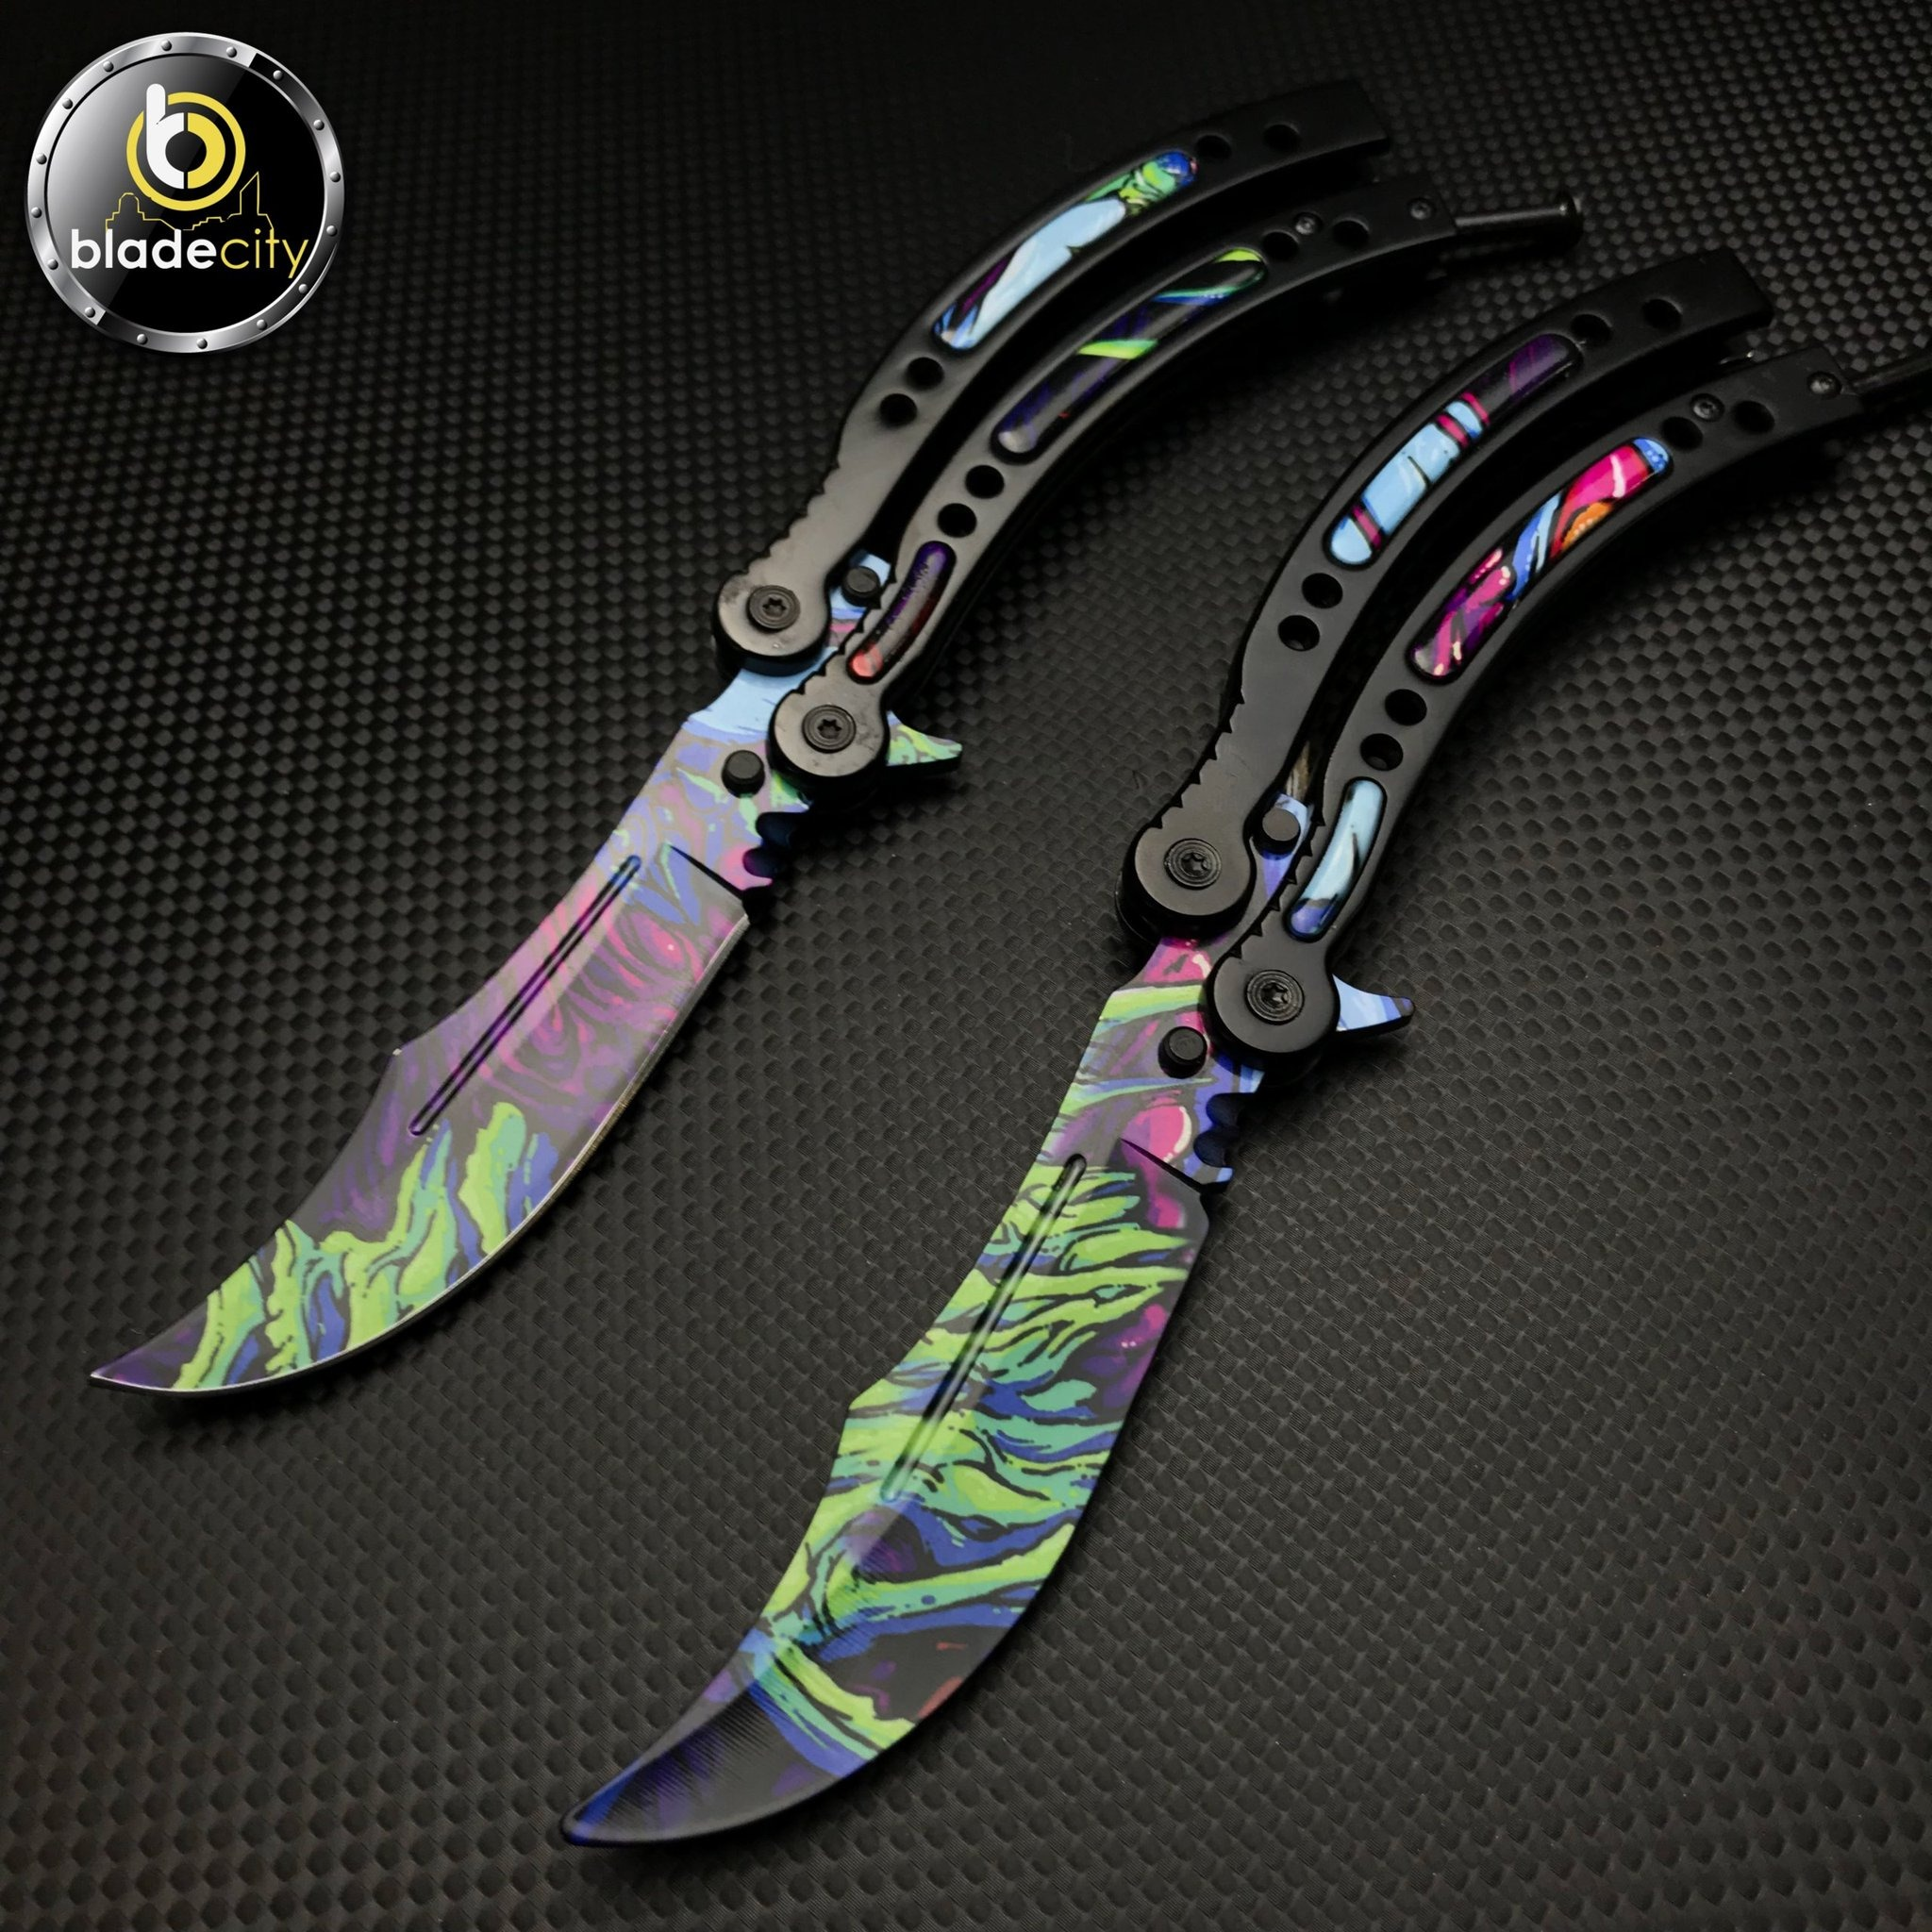knife: (556, 248, 1884, 1851), (76, 76, 1560, 1421)
